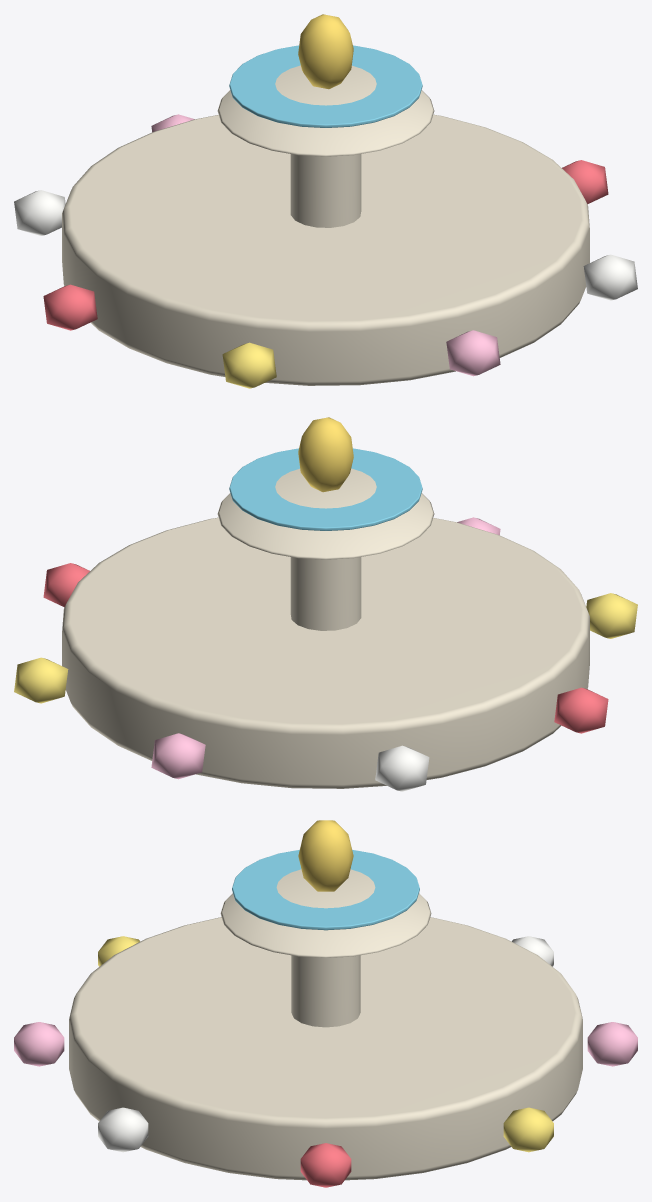
The model's file is fountain.fbx.
3 renders of one model, top to bottom at view 1: azimuth 30°, elevation 25°; view 2: azimuth 150°, elevation 25°; view 3: azimuth 270°, elevation 25°, orthographic. The views are drawn at different scales.
Parts seen in each view (by area): view 1: Visual; view 2: Visual; view 3: Visual.
Part boxes in pixels (left/top/right/bottom): Visual: left=14, top=14, right=637, bottom=388; Visual: left=14, top=417, right=637, bottom=791; Visual: left=14, top=820, right=637, bottom=1187.
Size of what is drawn, in the model's own units: 634 by 285 by 631.
